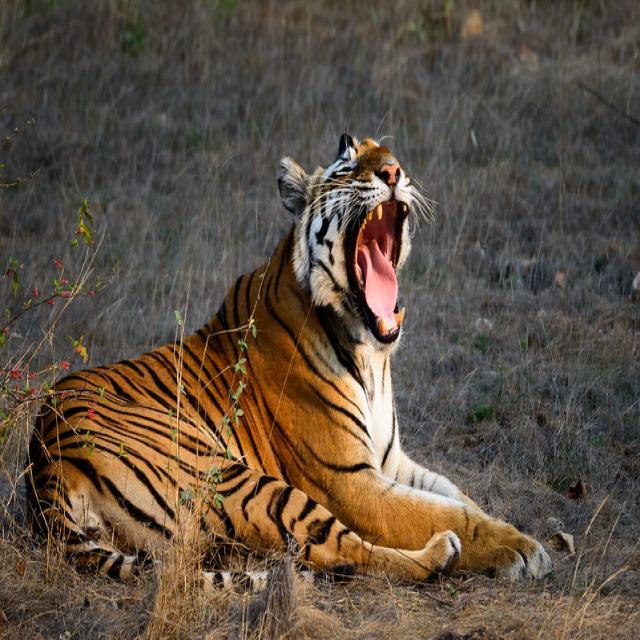Tiger: (23, 123, 554, 595)
